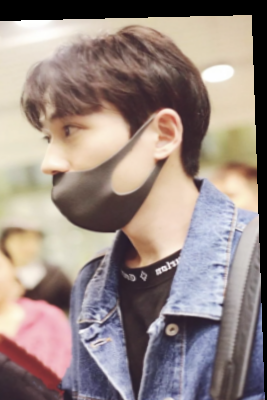mask_weared_incorrect: (20, 19, 216, 234)
